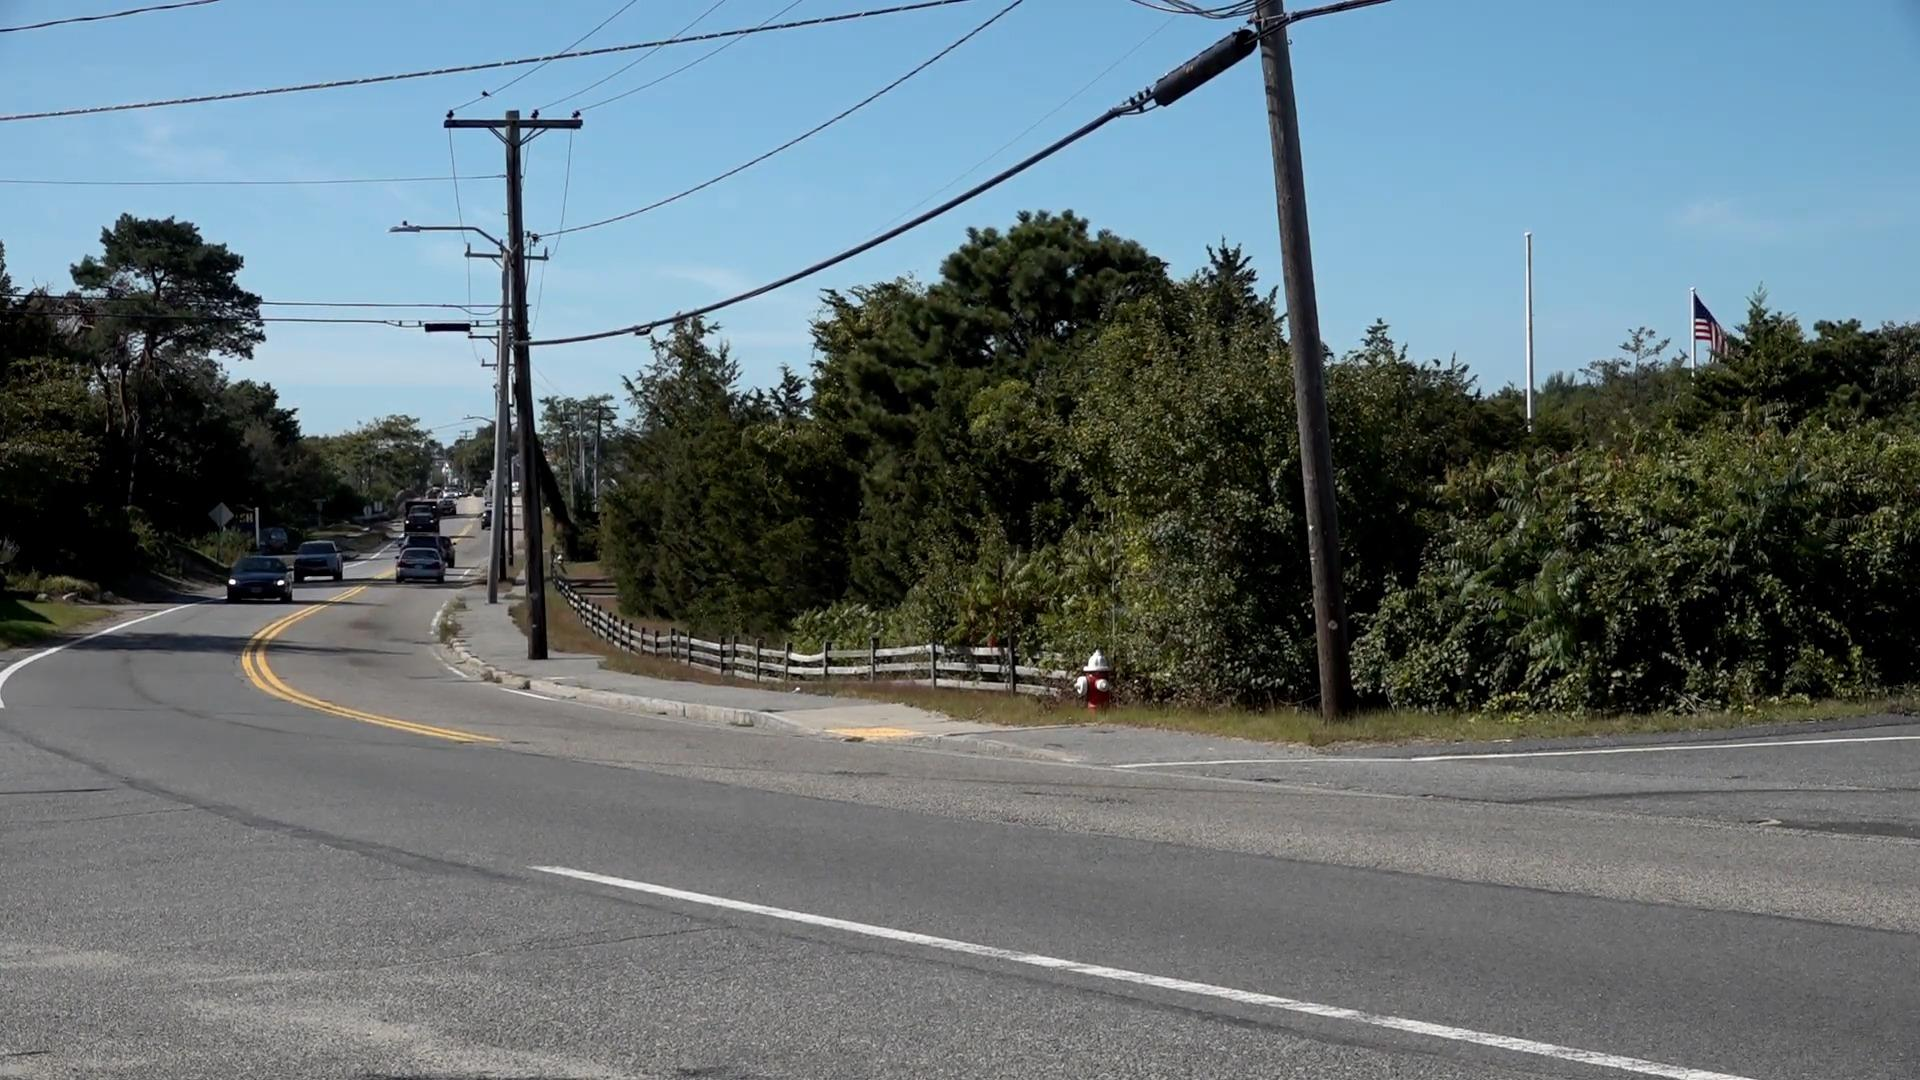sedans: (228, 554, 295, 605), (396, 549, 446, 587)
suv: (297, 541, 343, 579)
